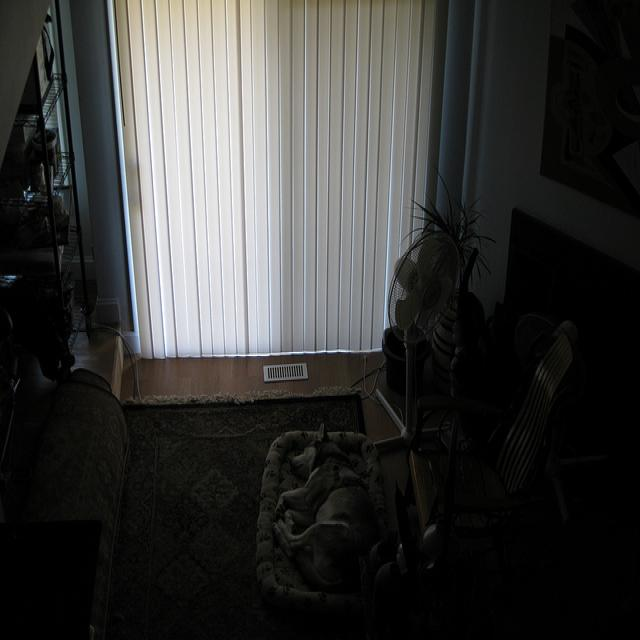Dog: (255, 421, 389, 597)
